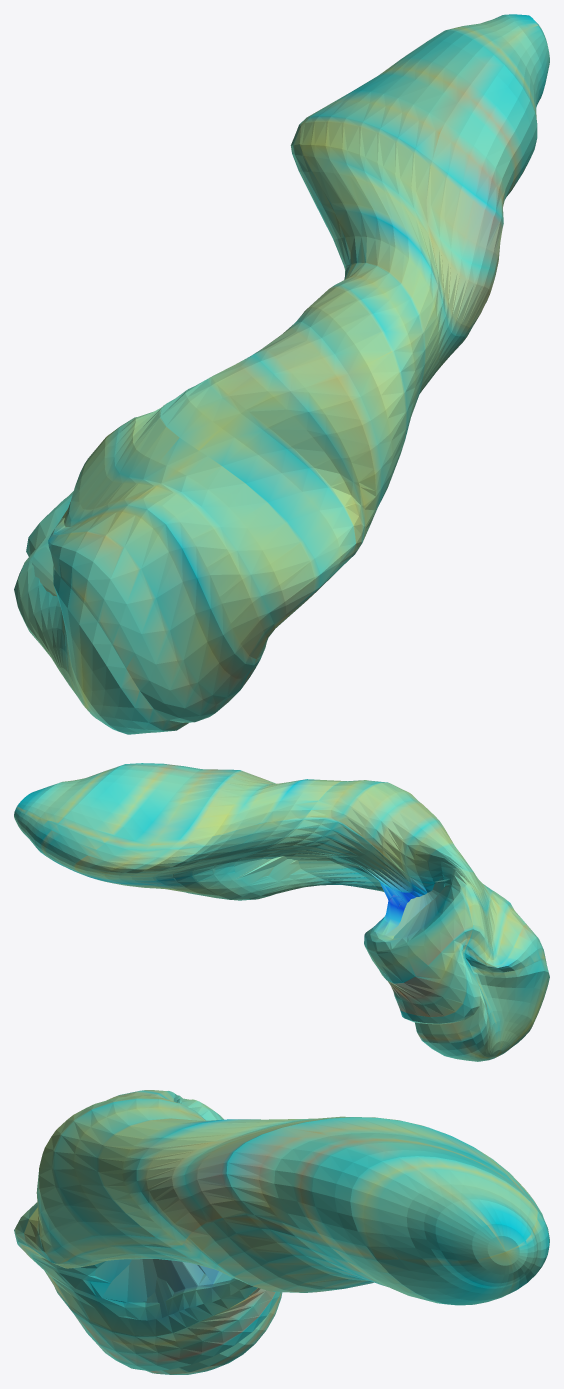
The model's file is pancreas_errormap.glb.
The picture shows the model from 3 angles, top to bottom: view 1: azimuth 30°, elevation 25°; view 2: azimuth 150°, elevation 25°; view 3: azimuth 270°, elevation 25°; orthographic projection. The views are drawn at different scales.
Visible parts, largest first — view 1: world; view 2: world; view 3: world.
Boxes of the visible parts, bbox=[...] form: world: bbox=[14, 14, 549, 734]; world: bbox=[14, 763, 549, 1061]; world: bbox=[14, 1090, 549, 1374].
Bounding box in the file's own units: 0.1107 × 0.072 × 0.0837.
